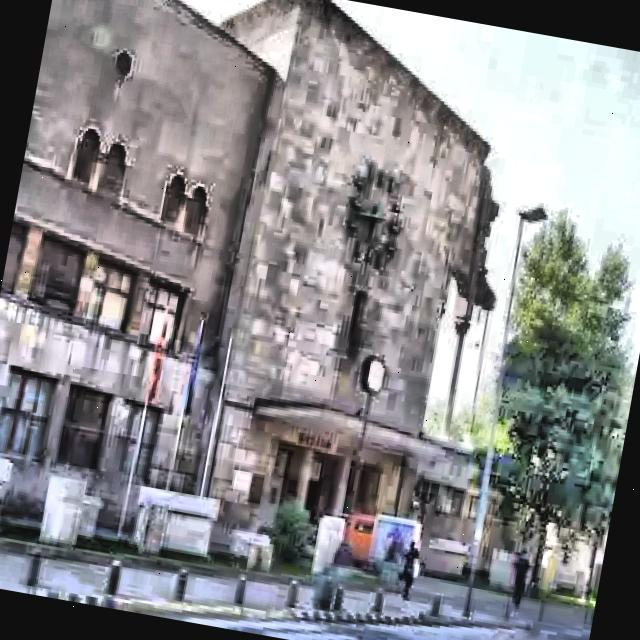old railway: (0, 0, 526, 585)
